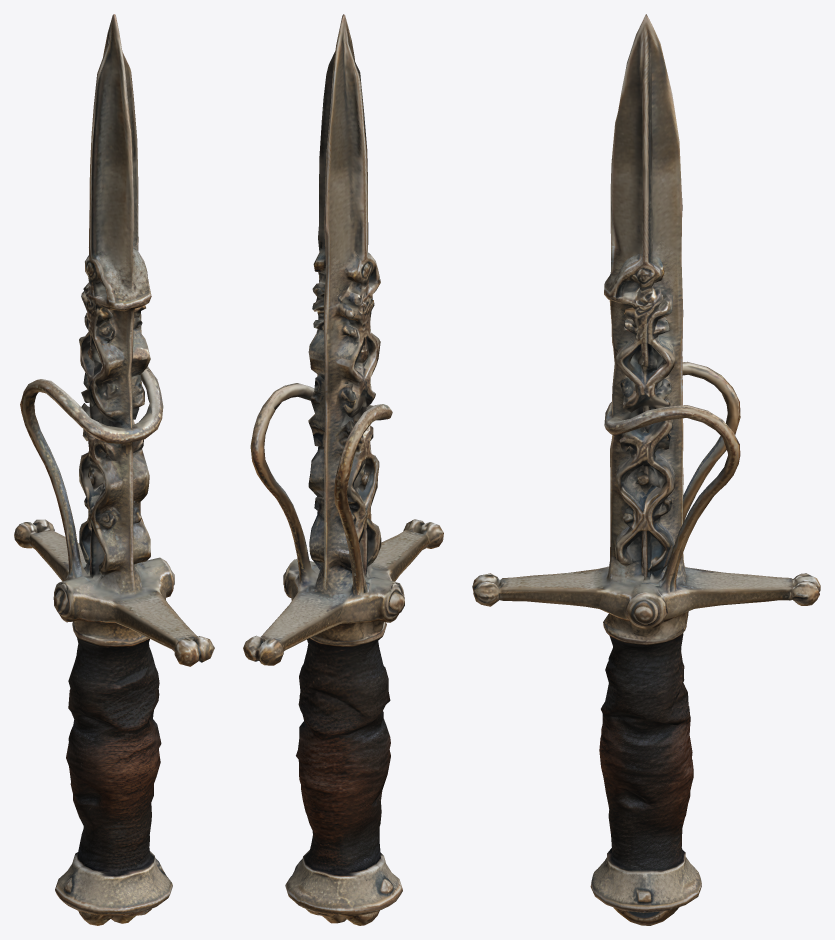
The picture shows the model from 3 angles, left to right: view 1: azimuth 30°, elevation 25°; view 2: azimuth 150°, elevation 25°; view 3: azimuth 270°, elevation 25°; orthographic projection.
Parts seen in each view (by area): view 1: tripo_node_6faf5fd6-7772-4dad-ae3d-c215e58bb806; view 2: tripo_node_6faf5fd6-7772-4dad-ae3d-c215e58bb806; view 3: tripo_node_6faf5fd6-7772-4dad-ae3d-c215e58bb806.
Part boxes in pixels (left/top/right/bottom): tripo_node_6faf5fd6-7772-4dad-ae3d-c215e58bb806: left=14, top=14, right=214, bottom=925; tripo_node_6faf5fd6-7772-4dad-ae3d-c215e58bb806: left=243, top=14, right=443, bottom=925; tripo_node_6faf5fd6-7772-4dad-ae3d-c215e58bb806: left=472, top=14, right=820, bottom=925.
Size of the model in its own units: 0.0408 by 0.3 by 0.1052.
Materials: 1 (1 with a texture image).
